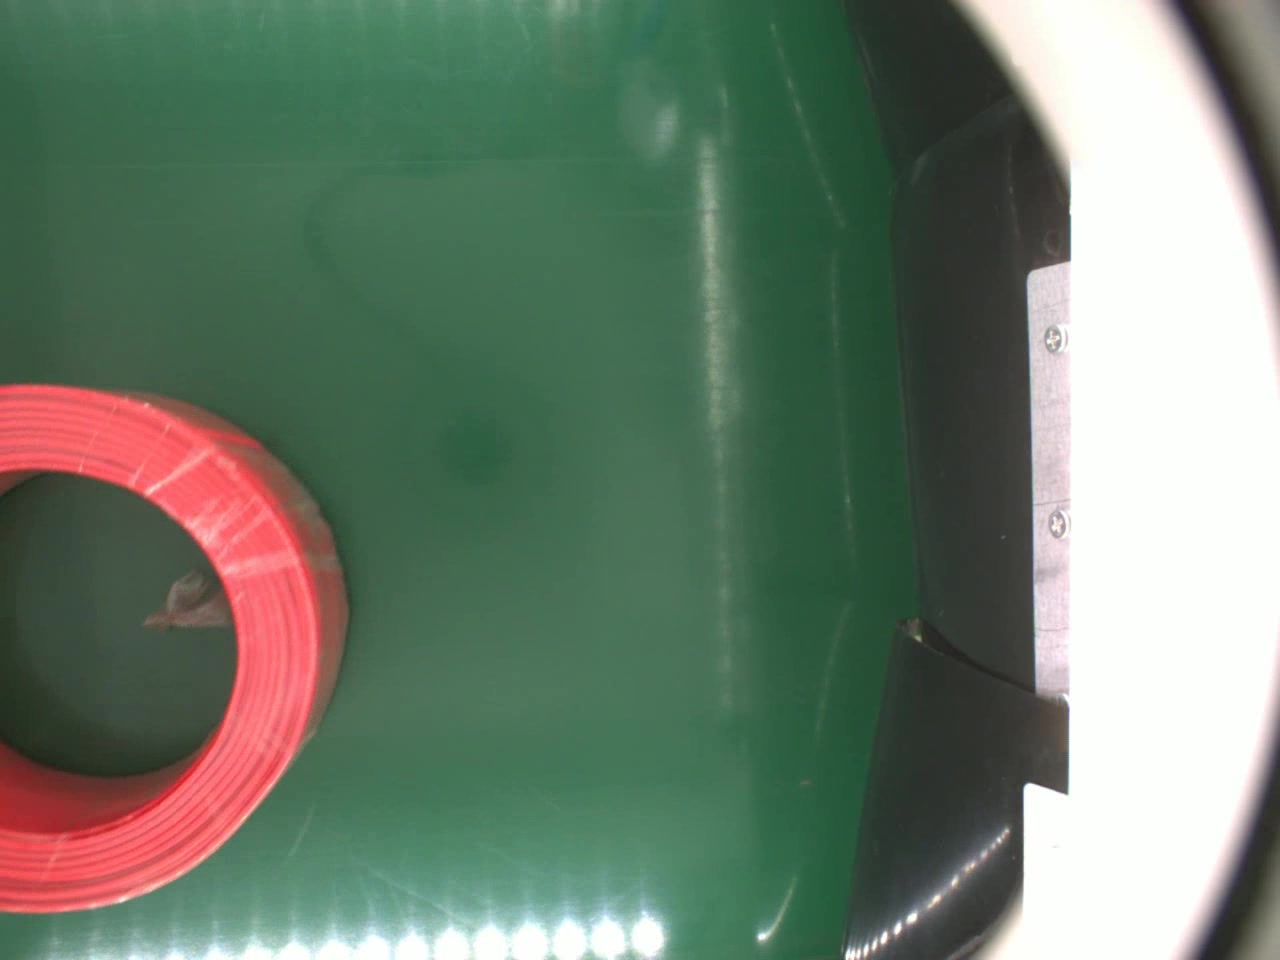red: (0, 376, 346, 914)
